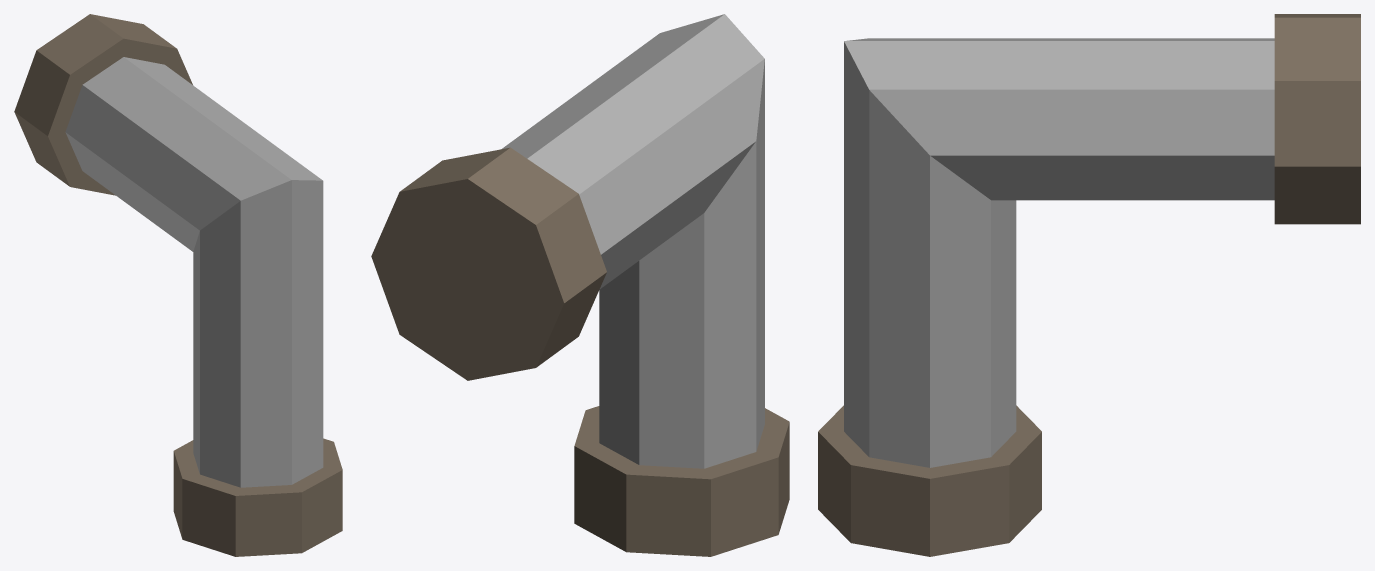
The model's file is steampunk_pipe_thick_90.fbx.
The picture shows the model from 3 angles, left to right: view 1: azimuth 30°, elevation 25°; view 2: azimuth 150°, elevation 25°; view 3: azimuth 270°, elevation 25°; orthographic projection. The views are drawn at different scales.
Parts seen in each view (by area): view 1: Cylinder.011; view 2: Cylinder.011; view 3: Cylinder.011.
Part boxes in pixels (<box>): Cylinder.011: <box>14,14,342,556</box>; Cylinder.011: <box>371,14,789,556</box>; Cylinder.011: <box>818,14,1360,556</box>.
Bounding box in the file's own units: 0.65 × 1.57 × 1.58.
